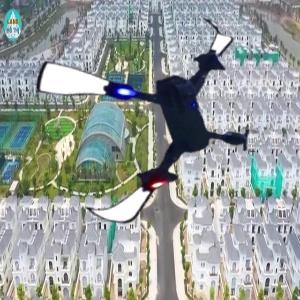drone: (31, 8, 265, 242)
